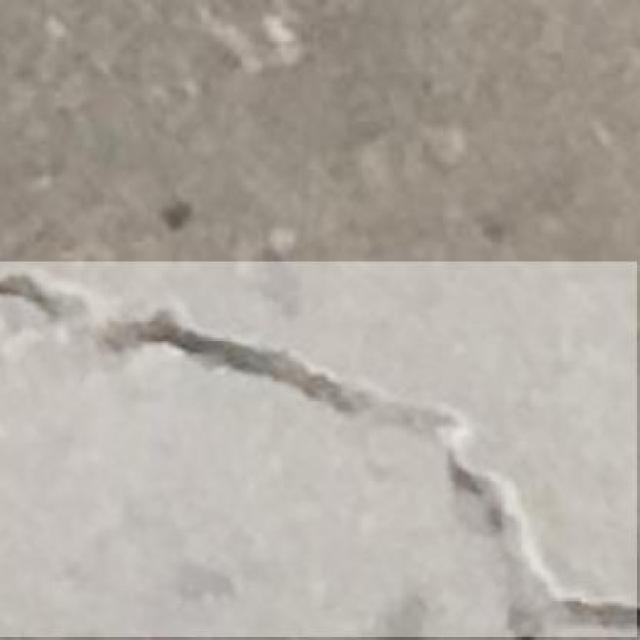Crack: (0, 266, 640, 638)
